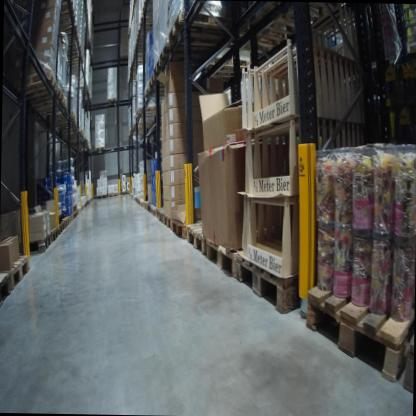pallet: (297, 282, 414, 387), (236, 238, 333, 310), (164, 10, 248, 49), (154, 40, 235, 67), (205, 229, 254, 273), (151, 56, 237, 80), (7, 62, 58, 100), (186, 208, 219, 257), (22, 82, 64, 117), (31, 93, 70, 126), (3, 250, 26, 298), (15, 231, 50, 262), (39, 108, 77, 128), (171, 215, 197, 239), (140, 85, 175, 102), (148, 72, 181, 88), (0, 268, 13, 307), (134, 105, 164, 119), (162, 210, 176, 231), (48, 225, 59, 244), (53, 220, 65, 237), (58, 215, 69, 232), (93, 192, 107, 205), (150, 199, 160, 215), (156, 209, 164, 226), (106, 93, 117, 105), (107, 189, 119, 199), (95, 142, 107, 151), (143, 198, 150, 211), (66, 213, 74, 224), (70, 200, 76, 214), (137, 194, 143, 207), (73, 204, 79, 217), (71, 209, 76, 224), (147, 199, 152, 213), (139, 200, 145, 210), (135, 195, 138, 204)
